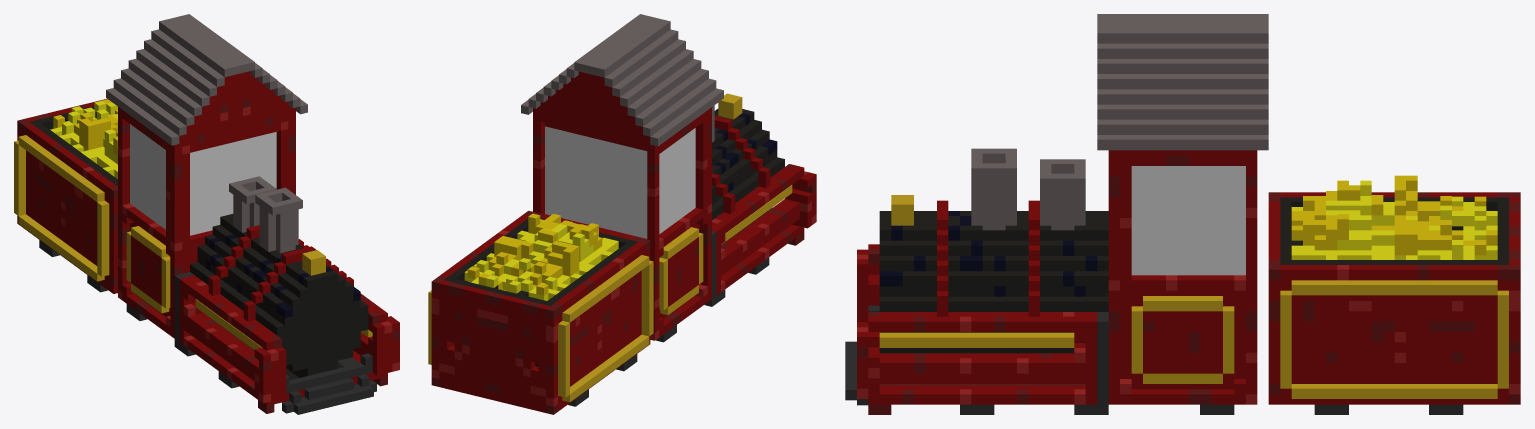
File: VoxelTrain.fbx
3 renders of one model, left to right at view 1: azimuth 30°, elevation 25°; view 2: azimuth 150°, elevation 25°; view 3: azimuth 270°, elevation 25°, orthographic. The views are drawn at different scales.
Parts seen in each view (by area): view 1: train, vagon; view 2: train, vagon; view 3: train, vagon.
Boxes of the visible parts, x1=… form: train: x1=106, y1=14, x2=399, y2=414; vagon: x1=14, y1=99, x2=117, y2=293; train: x1=521, y1=14, x2=816, y2=342; vagon: x1=428, y1=210, x2=653, y2=414; train: x1=845, y1=14, x2=1268, y2=414; vagon: x1=1268, y1=175, x2=1520, y2=414.
Size of the model in its own units: 180 by 340 by 590.
